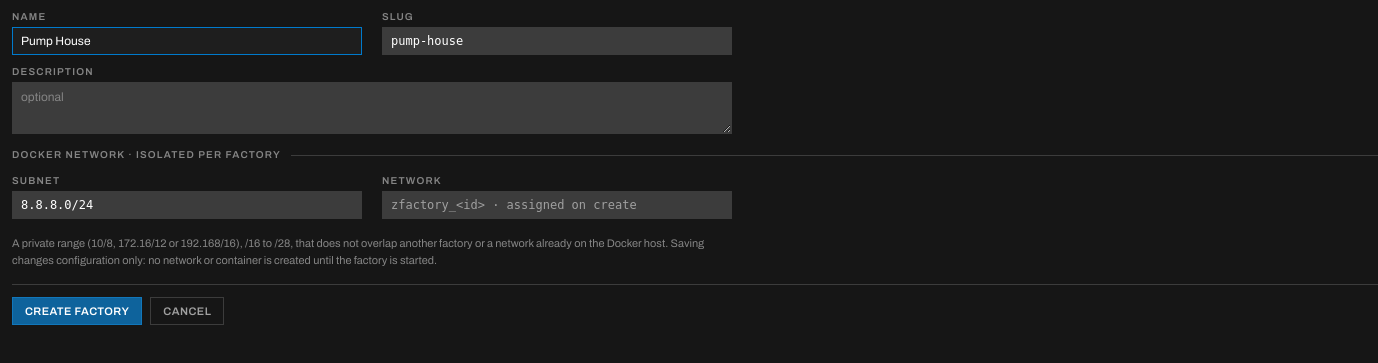
factory form › shows field errors returned by the action and keeps the input
This screenshot has width=1378, height=363.
What coordinates should you click on to do the following:
click the button "Create factory"
I would click on:
 (77, 311)
Its box is left=12, top=297, right=142, bottom=325.
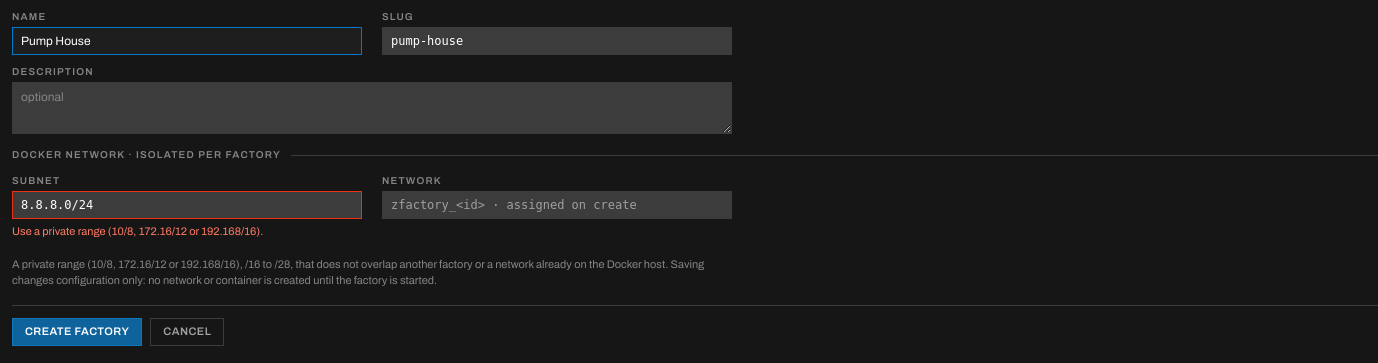
Expected: the field labelled "Subnet" holds "8.8.8.0/24", left=12, top=191, right=362, bottom=219
Result: the message shows "Use a private range" at left=12, top=225, right=263, bottom=237
